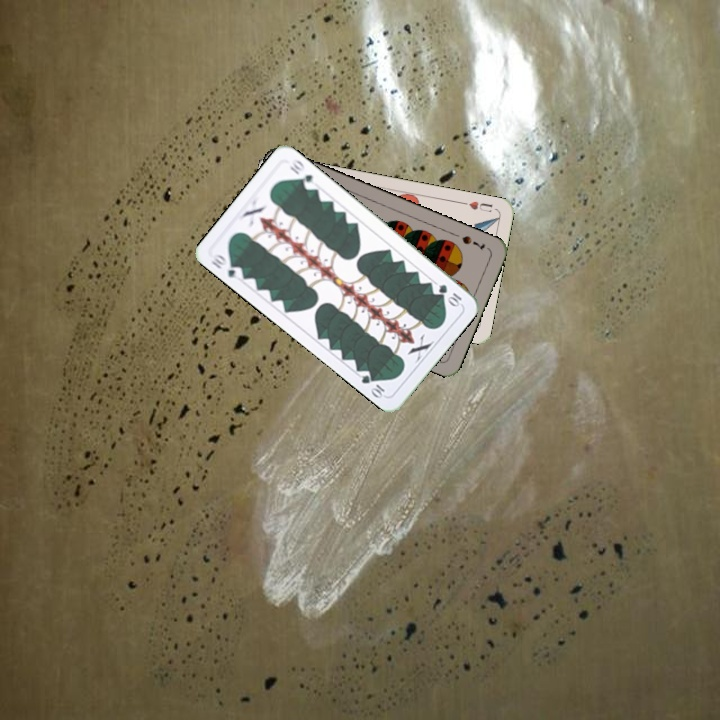G10: (207, 249, 246, 283), (434, 280, 464, 309)
HU: (458, 197, 495, 215)
S7: (458, 231, 488, 253)
